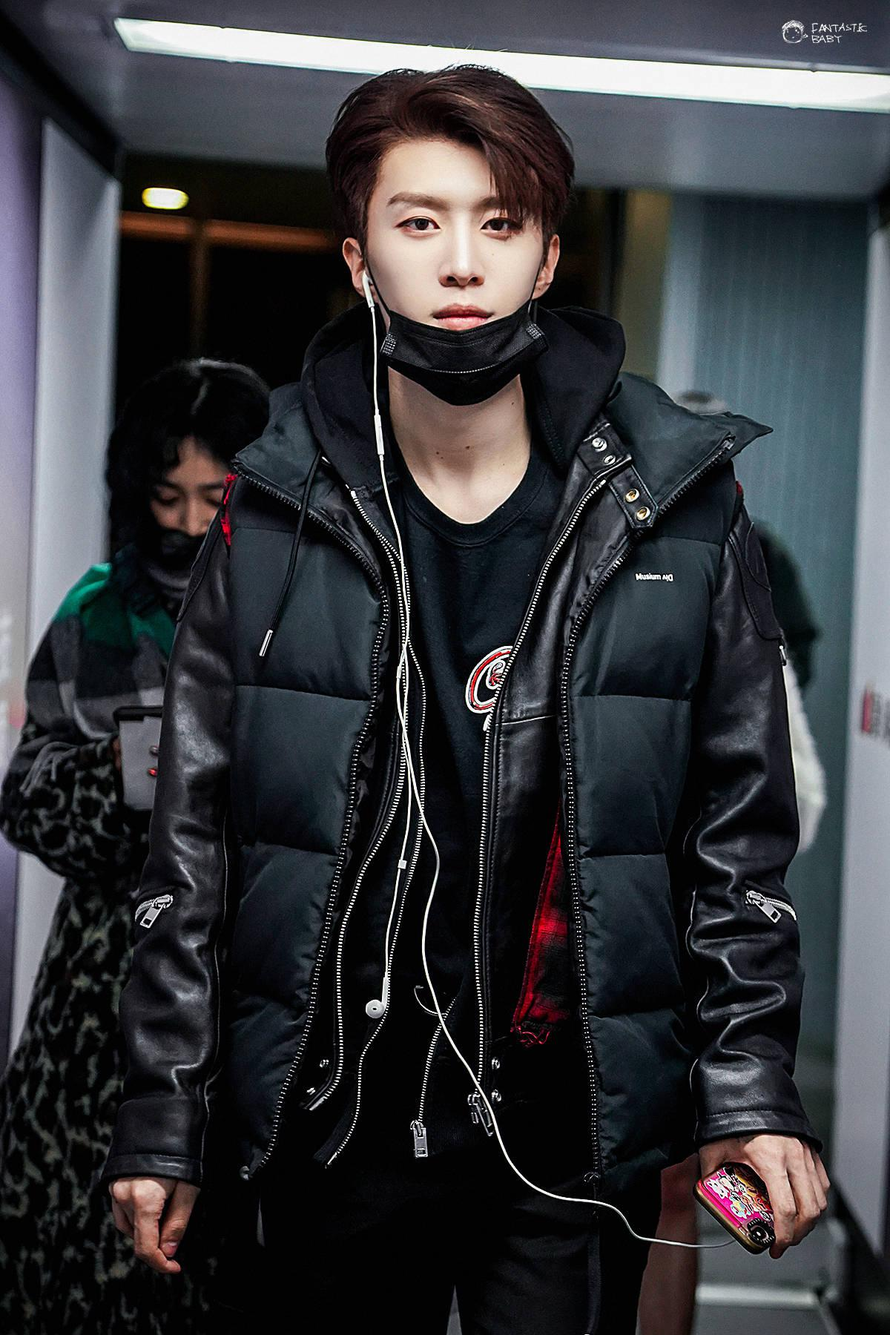WRONG: (364, 170, 541, 386), (148, 460, 240, 579)
